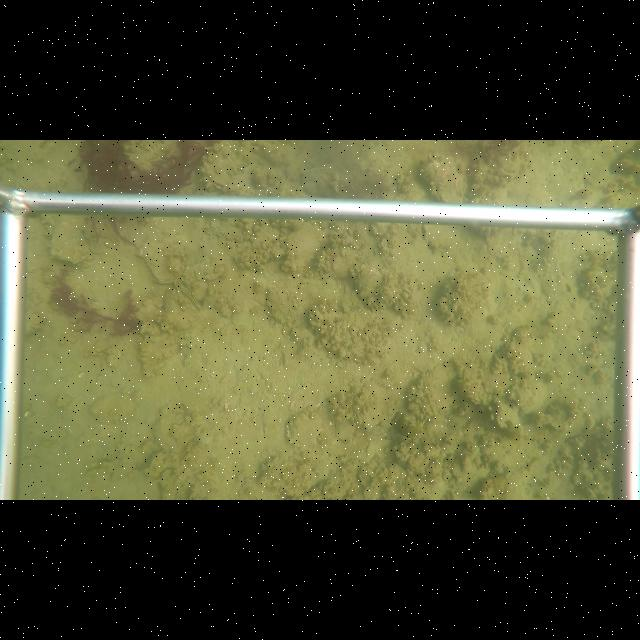Oyster-Closed: (284, 221, 330, 270), (421, 157, 467, 202), (50, 218, 93, 266), (86, 393, 138, 427), (281, 411, 324, 450), (354, 263, 384, 302)
Oyster-Open: (178, 285, 205, 313)
